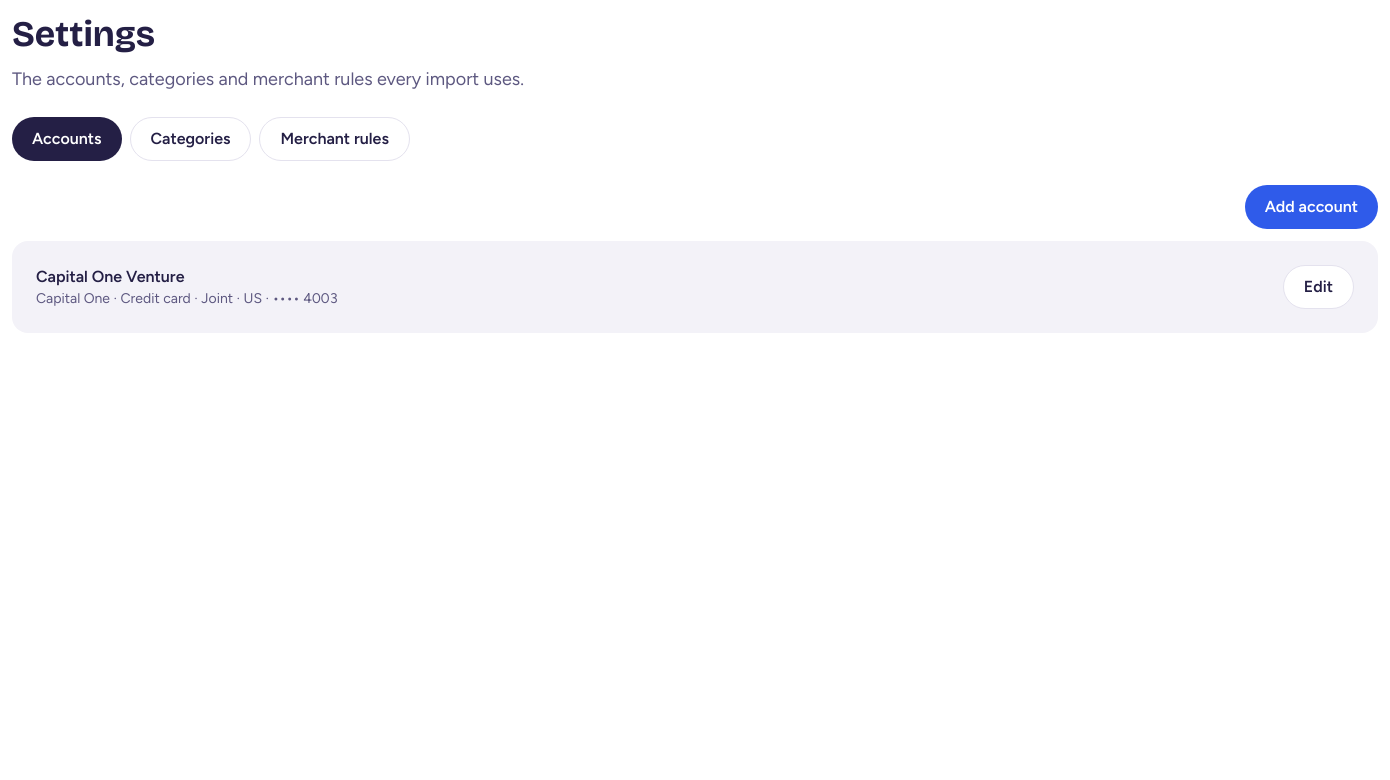
Settings: accounts › rejects a full card number before sending it
The width and height of the screenshot is (1390, 780).
Click the button "Add account".
click(1311, 207)  # box [1245,185,1378,229]
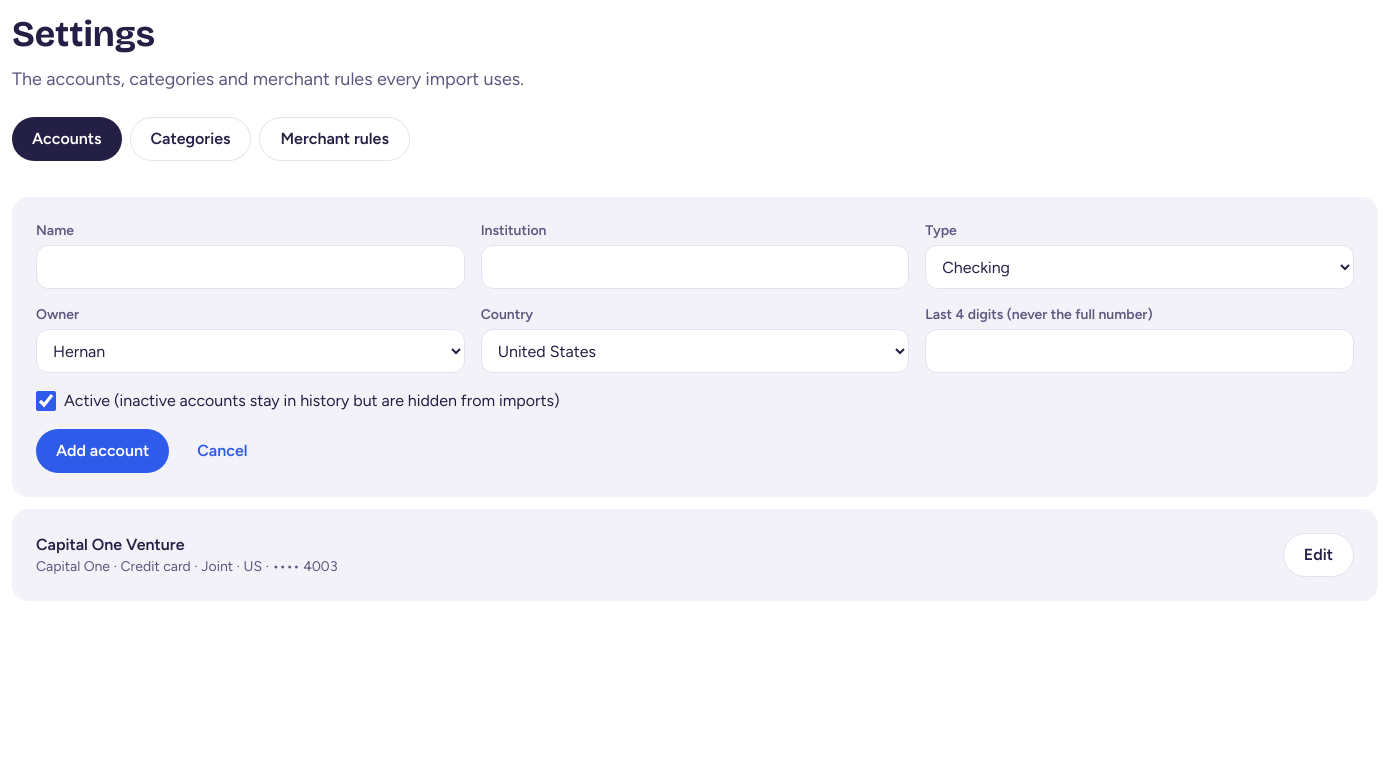
Type "44" into the field labelled "Last 4 digits (never the full number)".
click(1140, 351); type("44")  # box [925,329,1354,373]
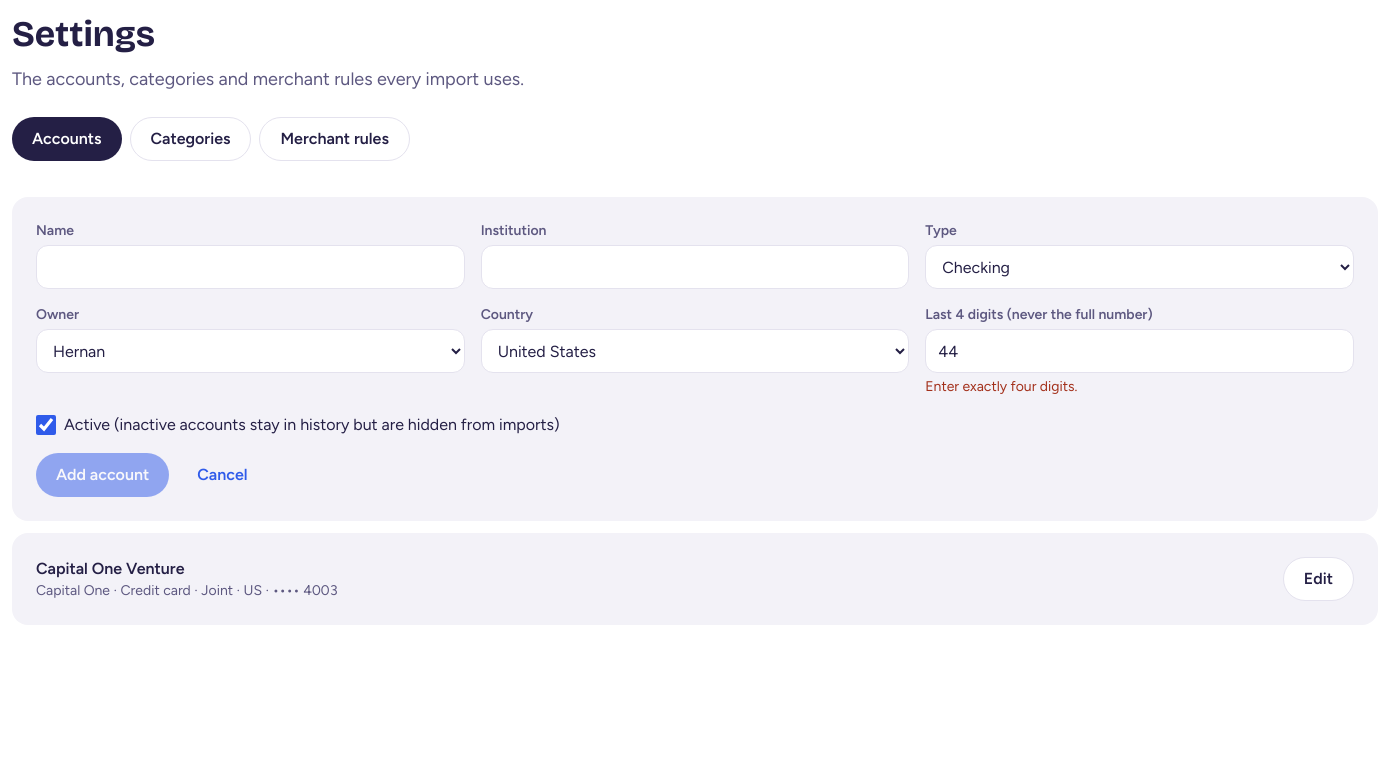
Result: the text "Enter exactly four digits." is shown at [925,378,1077,395]
Result: the button "Add account" is disabled at [36,453,169,497]
